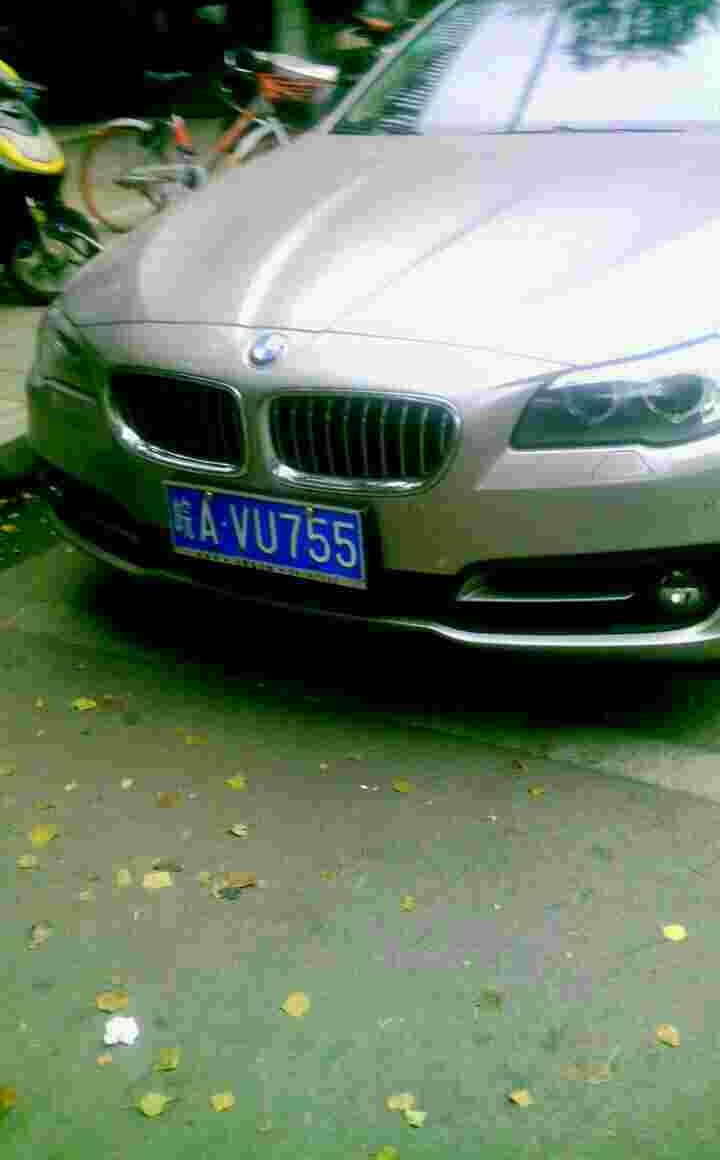license_plate: (162, 483, 372, 587)
